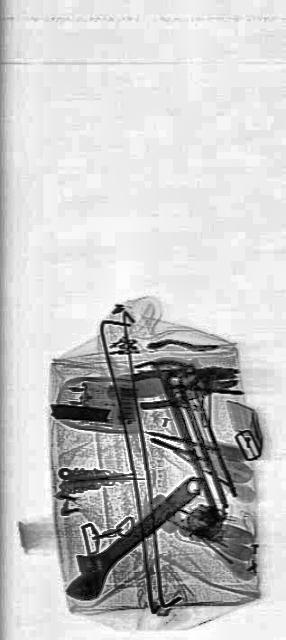Pliers: (135, 344, 239, 410)
Wrench: (60, 454, 204, 618)
